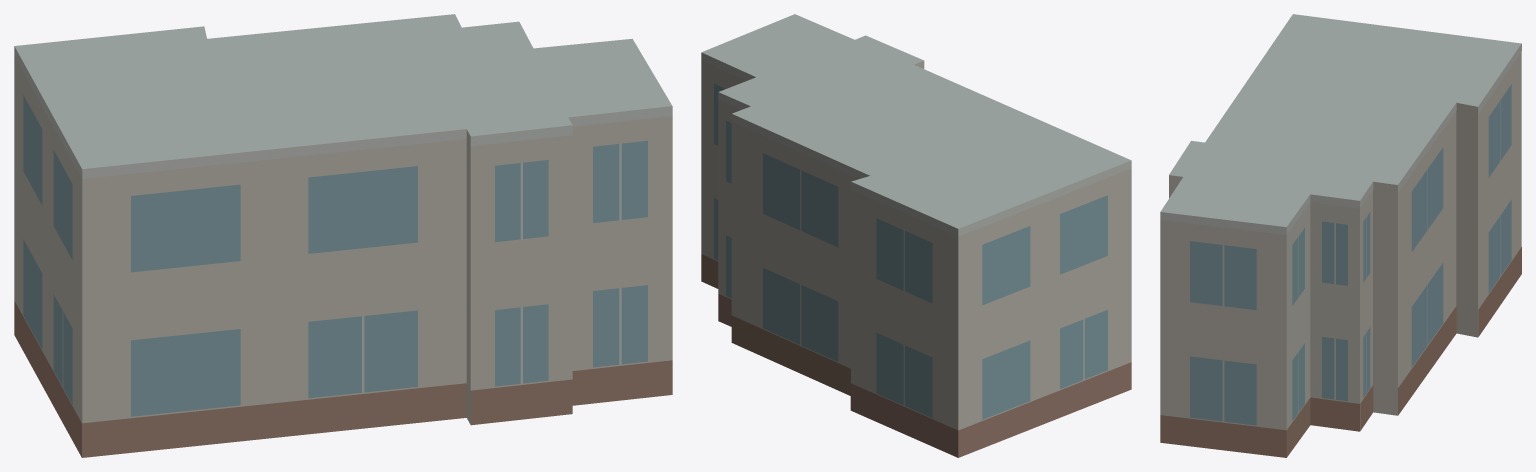
The model's file is survey-upis-32490270.glb.
The picture shows the model from 3 angles, left to right: view 1: azimuth 30°, elevation 25°; view 2: azimuth 150°, elevation 25°; view 3: azimuth 270°, elevation 25°; orthographic projection. The views are drawn at different scales.
Parts seen in each view (by area): view 1: survey-upis-32490270.tmp; view 2: survey-upis-32490270.tmp; view 3: survey-upis-32490270.tmp.
Boxes of the visible parts, x1,y1,x2,y2 form: survey-upis-32490270.tmp: (14, 14, 672, 457); survey-upis-32490270.tmp: (701, 14, 1131, 457); survey-upis-32490270.tmp: (1160, 14, 1521, 457).
Bounding box in the file's own units: 14.27 × 7.2 × 10.23.
